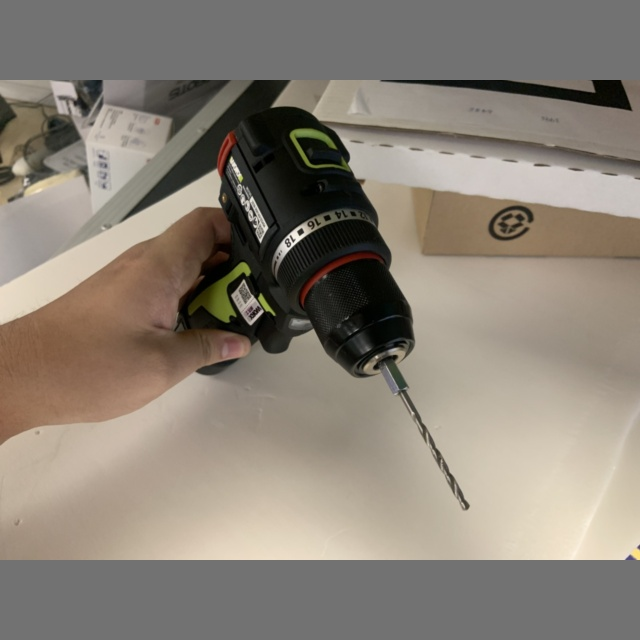drill: (178, 107, 468, 509)
